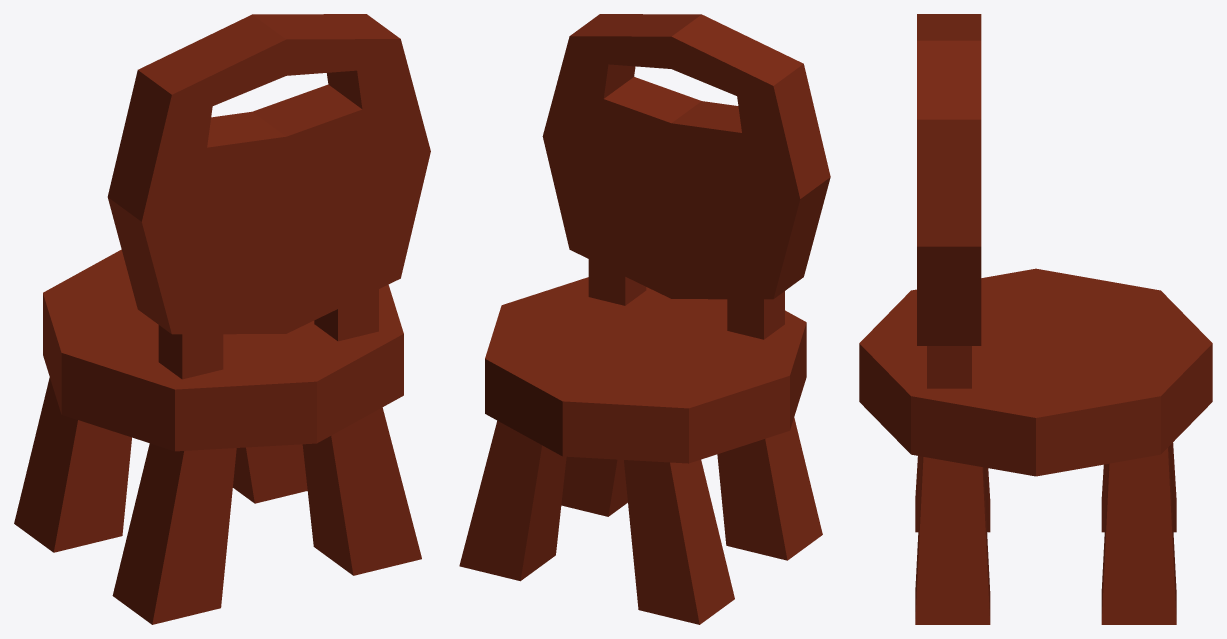
File: chair.fbx
The picture shows the model from 3 angles, left to right: view 1: azimuth 30°, elevation 25°; view 2: azimuth 150°, elevation 25°; view 3: azimuth 270°, elevation 25°; orthographic projection. The views are drawn at different scales.
Parts seen in each view (by area): view 1: chaise; view 2: chaise; view 3: chaise.
Part boxes in pixels (box(x1,y1,x2,y2)): chaise: box(14, 14, 430, 624); chaise: box(459, 14, 830, 624); chaise: box(859, 14, 1212, 624).
Bounding box in the file's own units: 54.58 × 88.92 × 54.58.
